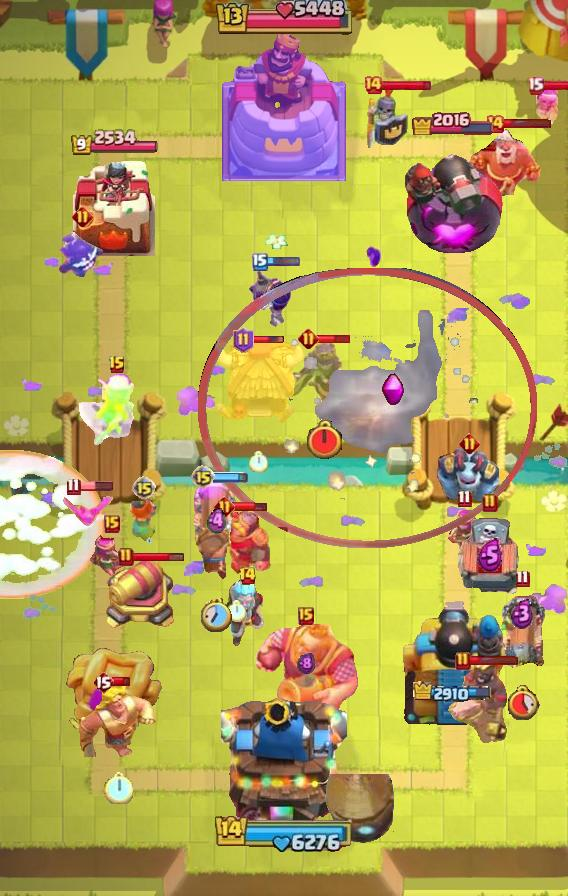barbarian: (61, 491, 113, 529)
barbarian-hut: (281, 339, 367, 417)
battle-healer: (193, 478, 239, 582), (499, 590, 545, 672)
cannon: (87, 534, 137, 580), (444, 510, 484, 554)
clock: (214, 813, 354, 853), (213, 0, 355, 38)
electro-spirit: (477, 538, 503, 572), (510, 599, 533, 630), (207, 507, 226, 536), (297, 652, 315, 675)
elixir: (305, 419, 344, 461), (504, 684, 540, 720), (201, 598, 232, 632), (103, 771, 132, 804), (226, 600, 246, 622), (248, 451, 267, 473)
elixir-collector: (467, 126, 545, 200)
elixir-golem-mid: (455, 517, 525, 603)
elixir-golem-small: (437, 443, 501, 501)
emote: (381, 79, 432, 92), (131, 553, 185, 564), (502, 119, 552, 130), (469, 654, 519, 665), (232, 499, 268, 512), (78, 480, 114, 492), (316, 333, 351, 345), (265, 257, 301, 268), (213, 472, 248, 483), (251, 335, 285, 345), (542, 79, 568, 92), (113, 677, 132, 688)
firecracker: (200, 511, 272, 574)
freeze: (445, 657, 511, 743)
giant-skeleton: (250, 621, 361, 723)
goblin: (535, 83, 559, 127)
goblin-ball: (247, 262, 291, 328)
goblin-hut: (79, 685, 157, 757)
hog-rider: (125, 495, 163, 547)
king-tower: (222, 31, 346, 181), (221, 690, 347, 826)
mortar: (216, 577, 278, 649)
phoenix-big: (0, 449, 106, 598)
poison: (77, 368, 157, 448)
prince: (211, 336, 305, 426)
princess: (365, 83, 409, 151)
queen-tower: (73, 156, 155, 256)
royal-ghost: (198, 268, 537, 548)
royal-recruit: (101, 556, 179, 632)
selected: (69, 129, 158, 157), (411, 109, 495, 135), (413, 681, 493, 705)
skeleton-king-skill: (382, 373, 406, 407)
spear-goblin: (58, 230, 106, 278)
text: (191, 465, 215, 489), (132, 476, 156, 500), (233, 327, 254, 353), (92, 670, 114, 694), (297, 327, 318, 349), (213, 495, 234, 517), (71, 205, 92, 226), (460, 434, 481, 455), (363, 75, 383, 95), (485, 114, 505, 134), (239, 566, 258, 586), (108, 355, 126, 375), (527, 77, 545, 95), (482, 493, 498, 513), (118, 547, 134, 567), (455, 651, 471, 671), (252, 253, 268, 271), (104, 515, 120, 533), (298, 607, 314, 625), (67, 477, 82, 496), (456, 489, 471, 508), (515, 568, 529, 587)
tower-bar: (397, 595, 509, 731), (403, 138, 503, 256)
x-bow: (323, 774, 401, 852)
